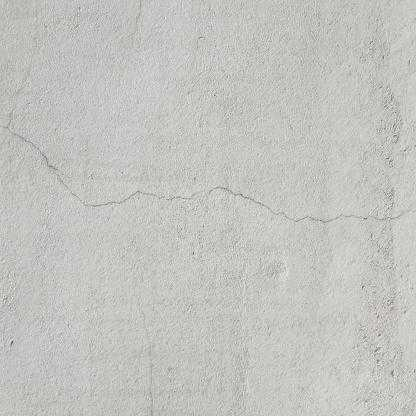crack: (0, 125, 202, 210), (208, 185, 416, 225)
